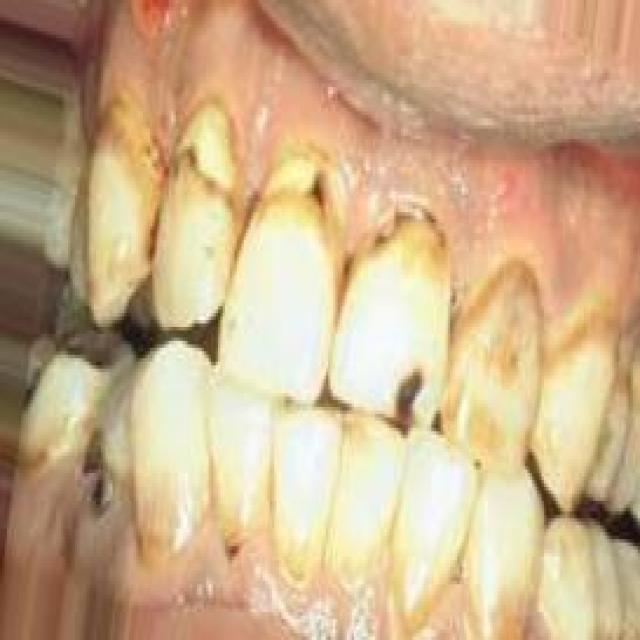caries: (258, 136, 354, 237), (169, 102, 248, 217), (357, 189, 444, 268), (78, 434, 120, 526), (384, 352, 430, 429)
